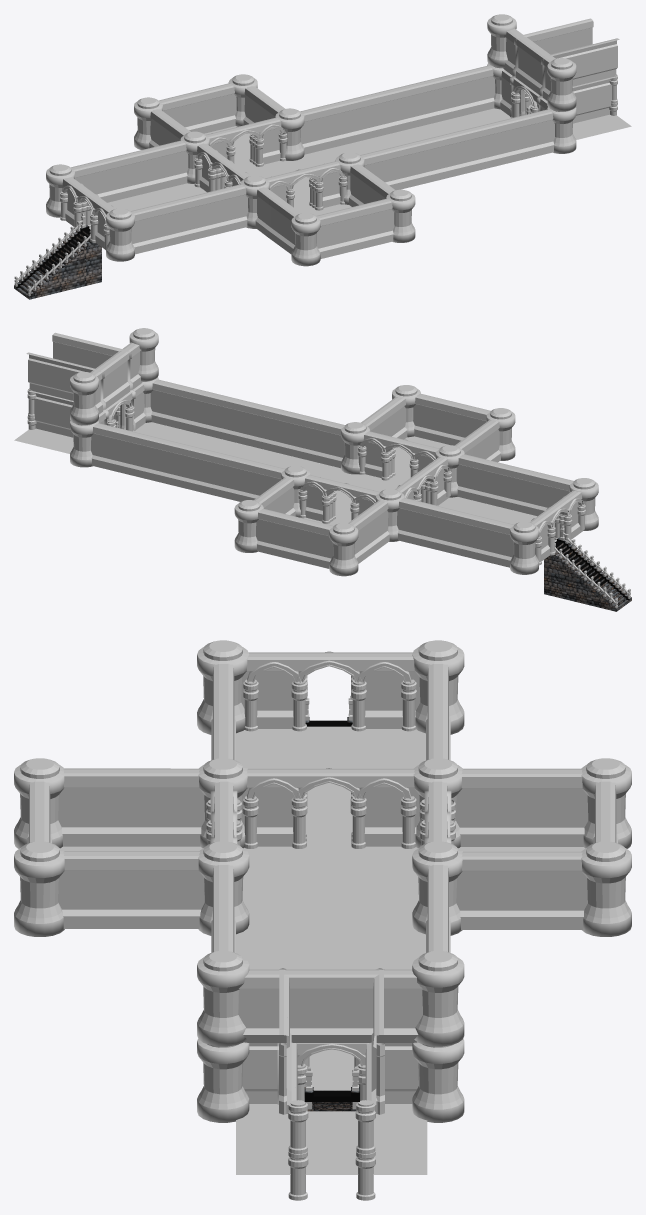
File: CryptLvl2.fbx
3 views of the same model, one above another, from view 1: azimuth 30°, elevation 25°; view 2: azimuth 150°, elevation 25°; view 3: azimuth 270°, elevation 25° (orthographic). The views are drawn at different scales.
Visible parts, largest first — view 1: CryptLvl2; view 2: CryptLvl2; view 3: CryptLvl2.
Boxes of the visible parts, x1,y1,x2,y2 form: CryptLvl2: [14, 14, 631, 299]; CryptLvl2: [14, 328, 631, 611]; CryptLvl2: [14, 640, 631, 1200].
Size of the model in its own units: 6405 by 1351 by 3252.
